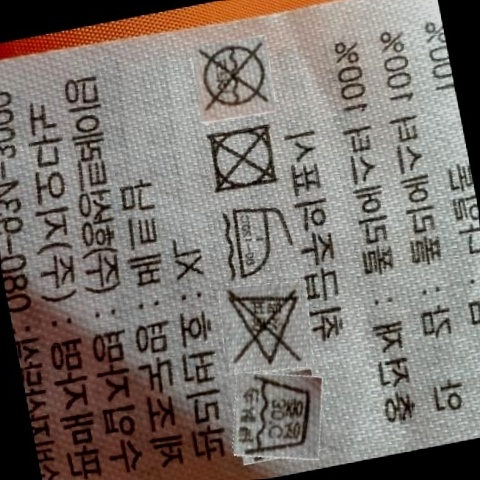DN_dry_clean: (192, 39, 274, 113)
DN_tumble_dry: (202, 121, 281, 194)
hand_wash: (227, 370, 320, 463)
iron_low: (217, 198, 293, 284)
non_chlorine_bleach: (220, 284, 301, 370)
